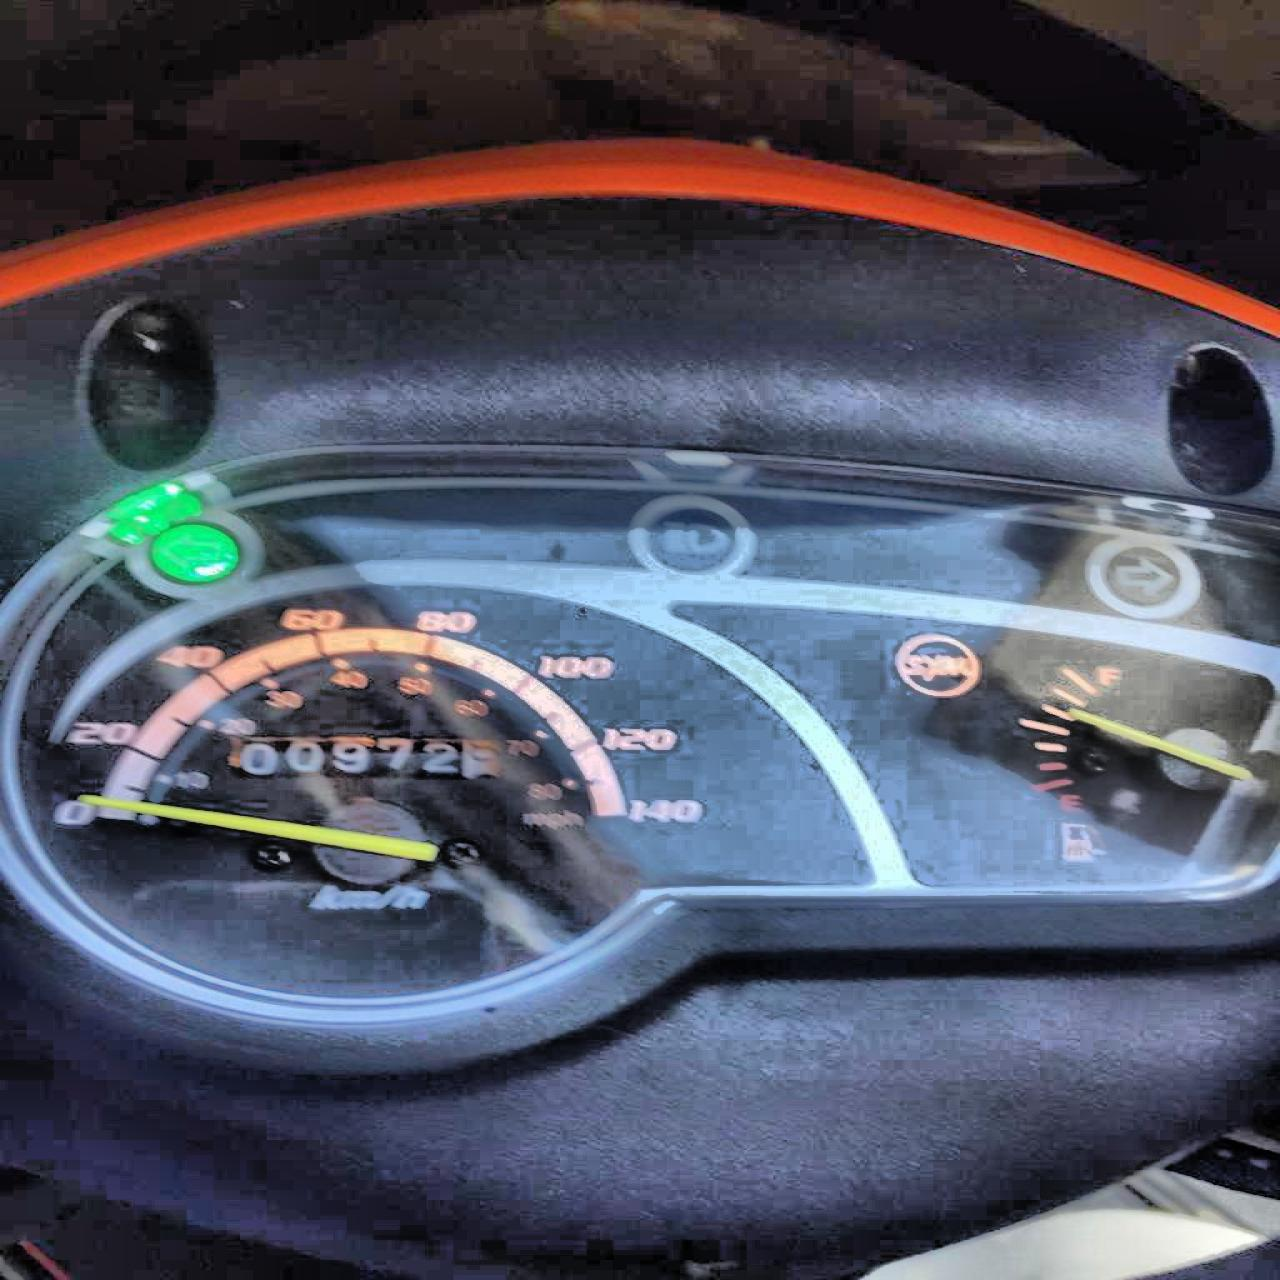0: (281, 738, 325, 772), (237, 740, 277, 775)
2: (418, 738, 458, 772)
7: (375, 735, 415, 770)
8: (465, 736, 502, 763)
9: (329, 738, 368, 774)
odometer: (217, 731, 506, 784)
